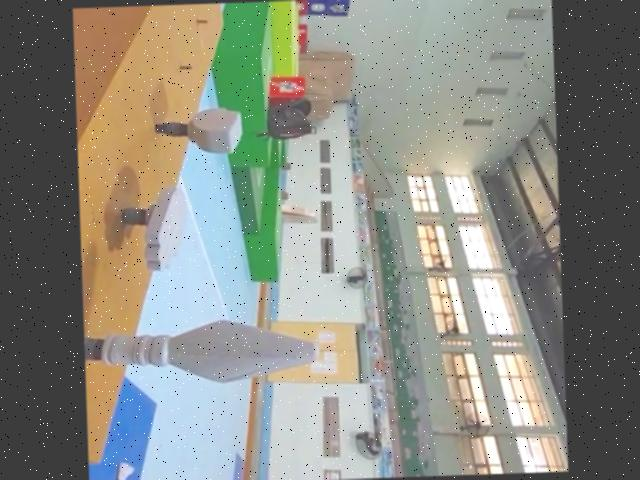Fist: (152, 104, 247, 156)
Hand: (117, 181, 195, 271)
Sph: (83, 313, 323, 388)
